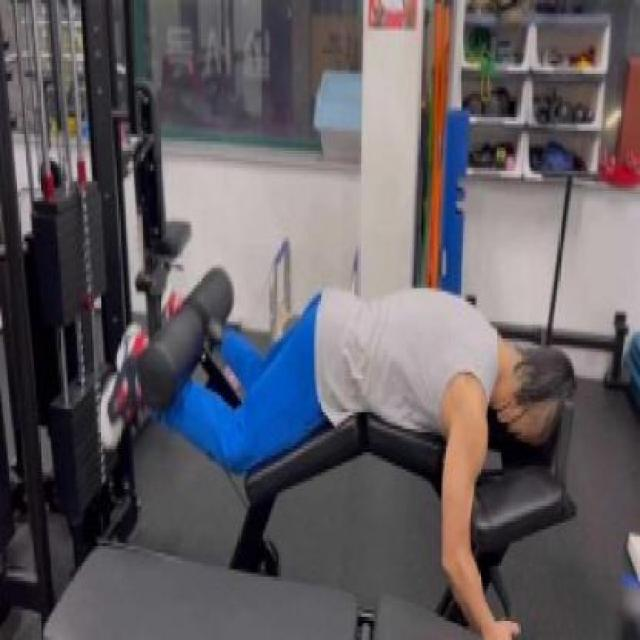reg curl machine: (72, 157, 597, 640)
